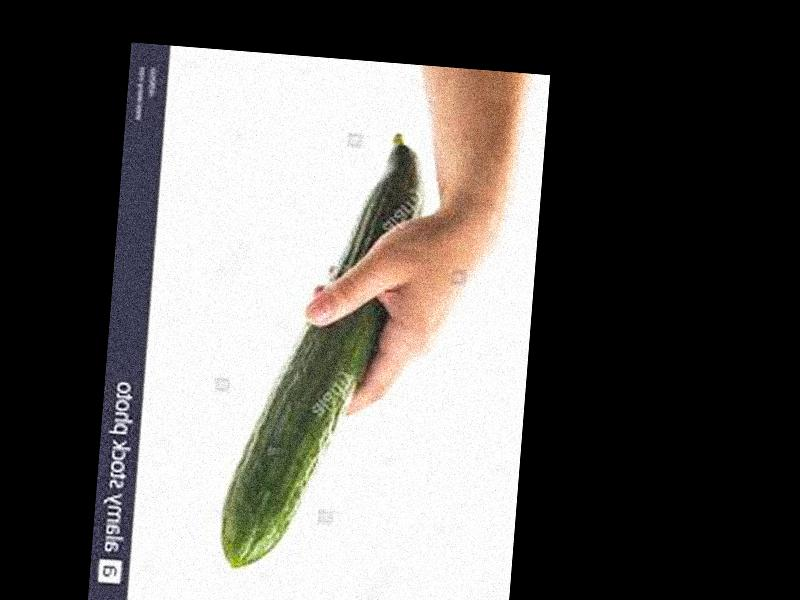Cucumber: (217, 120, 428, 581)
